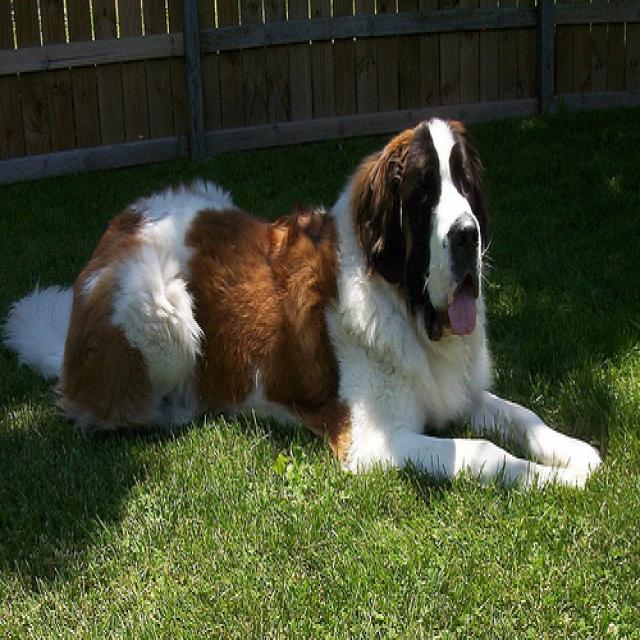dog-saint_bernard: (3, 112, 598, 486)
